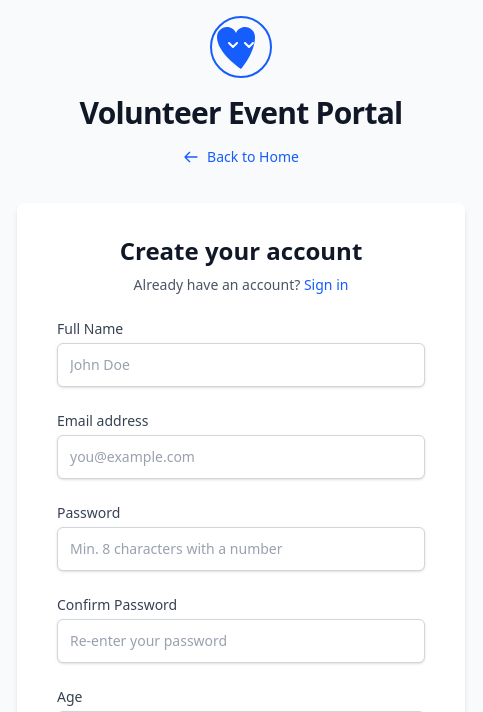
Test: RegisterPage › shows validation error for password less than 8 characters
Type "pass1" into the password field labelled "Password".
click(241, 549); type("pass1")  # box [57,527,425,571]
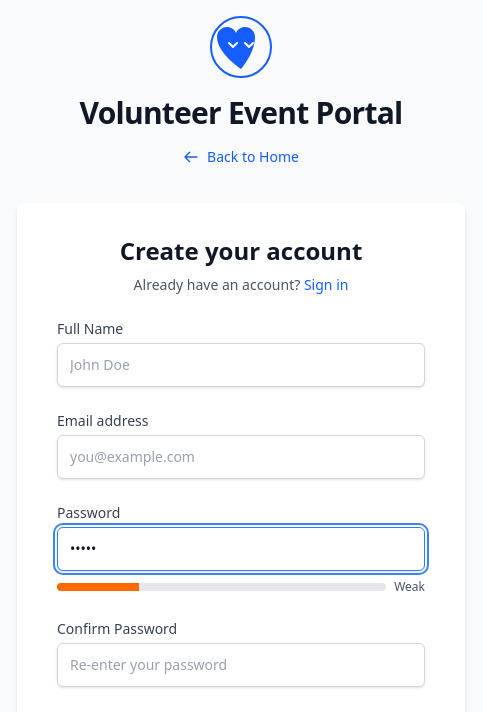
Press Tab
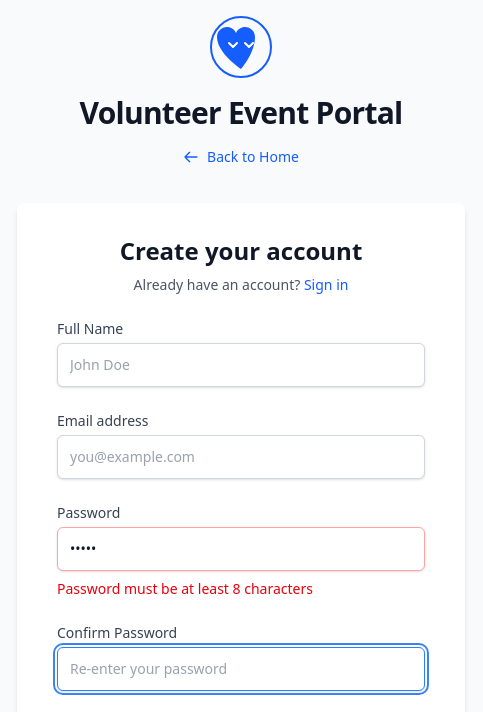
Check: the text "Password must be at least 8 characters" is shown, box [57,579,313,598]
